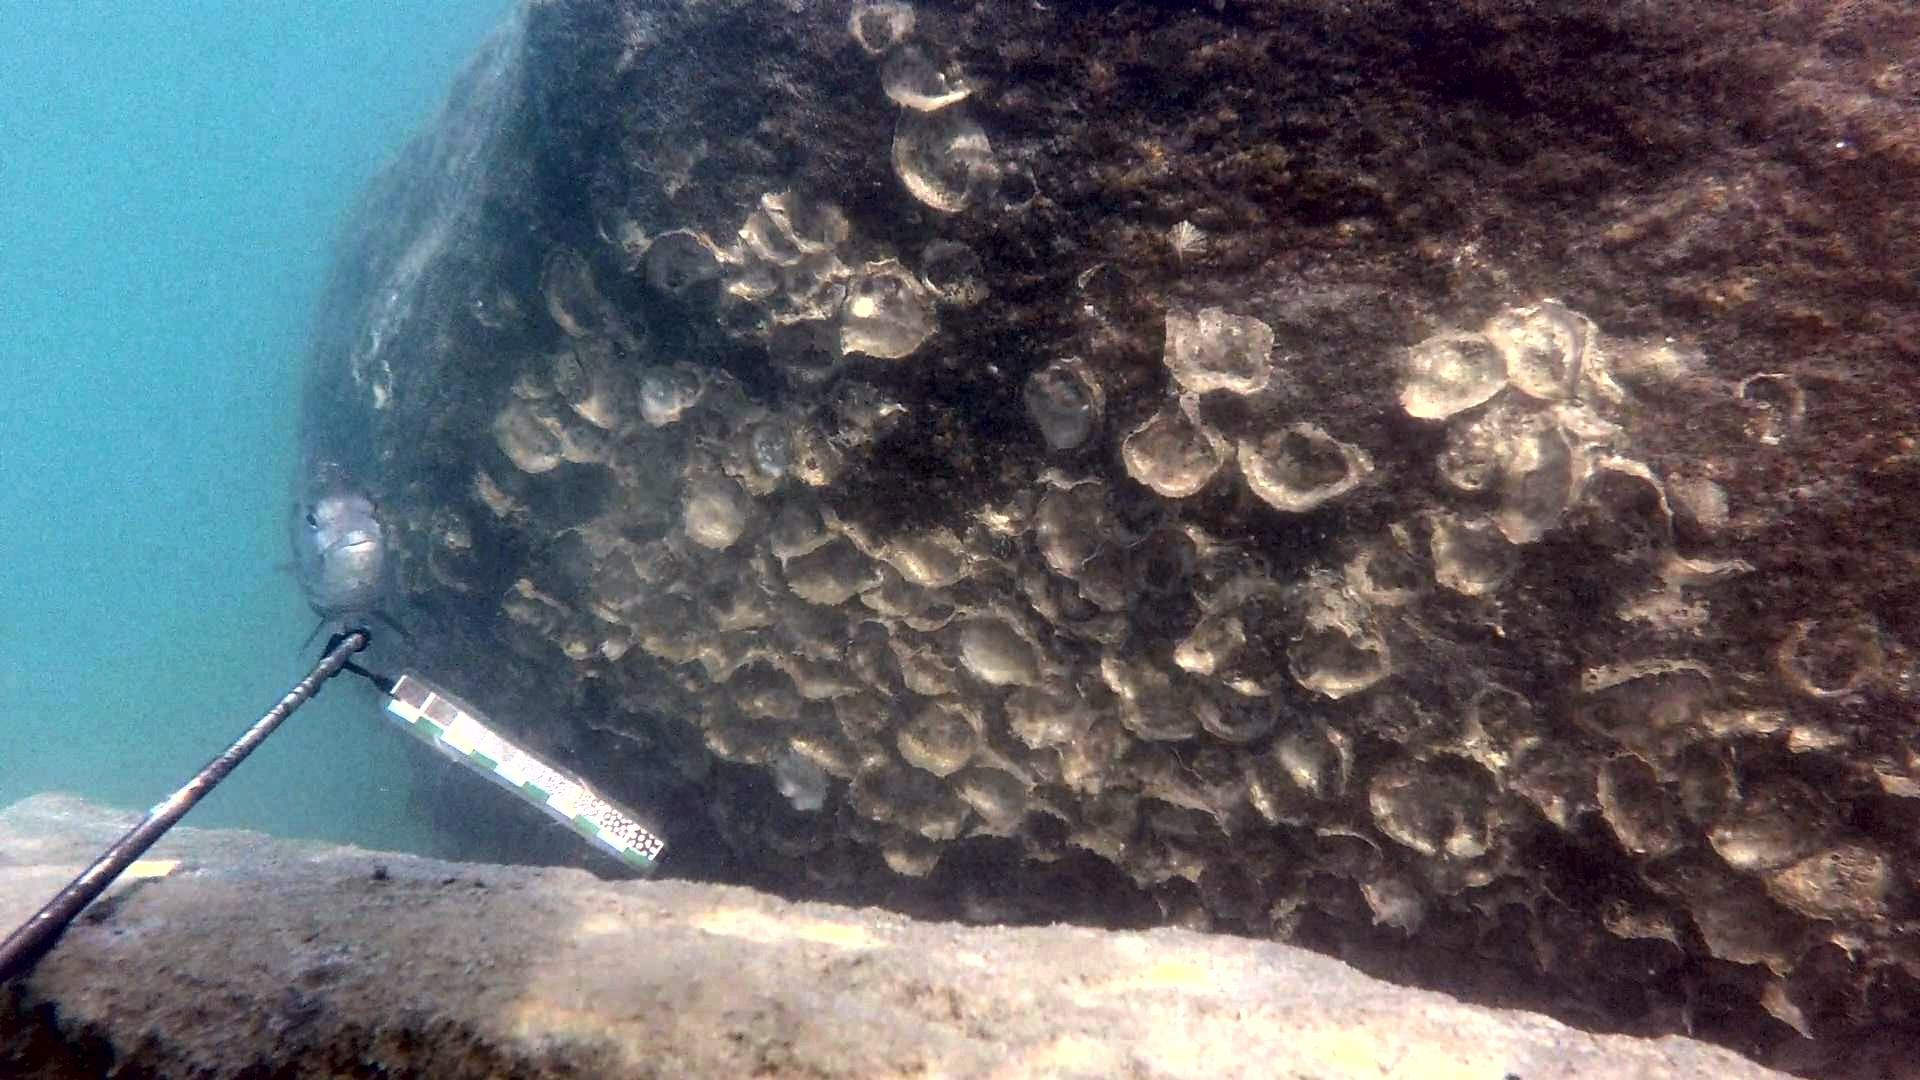acanthopagrus palmaris: (278, 425, 433, 669)
